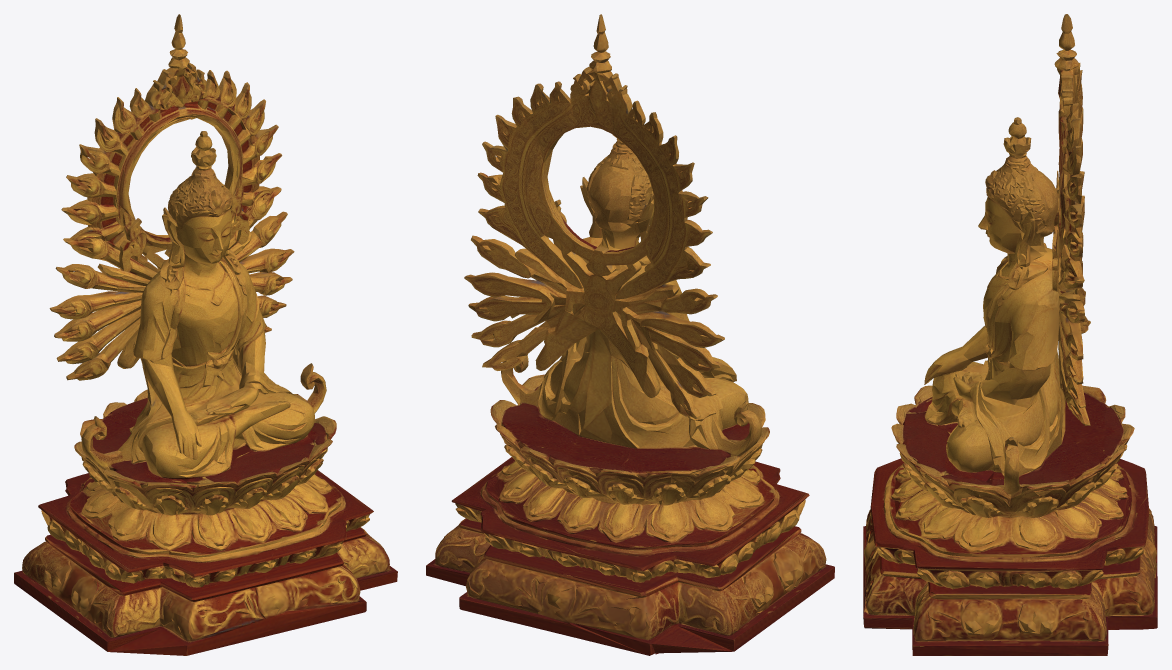
Rendered from tuong-phat-nghin-mat-nghin-tay.glb.
3 views of the same model, side by side, from view 1: azimuth 30°, elevation 25°; view 2: azimuth 150°, elevation 25°; view 3: azimuth 270°, elevation 25° (orthographic). The views are drawn at different scales.
Bounding box in the file's own units: 1.05 × 1.9 × 0.8878.
1 material, 1 textured.
